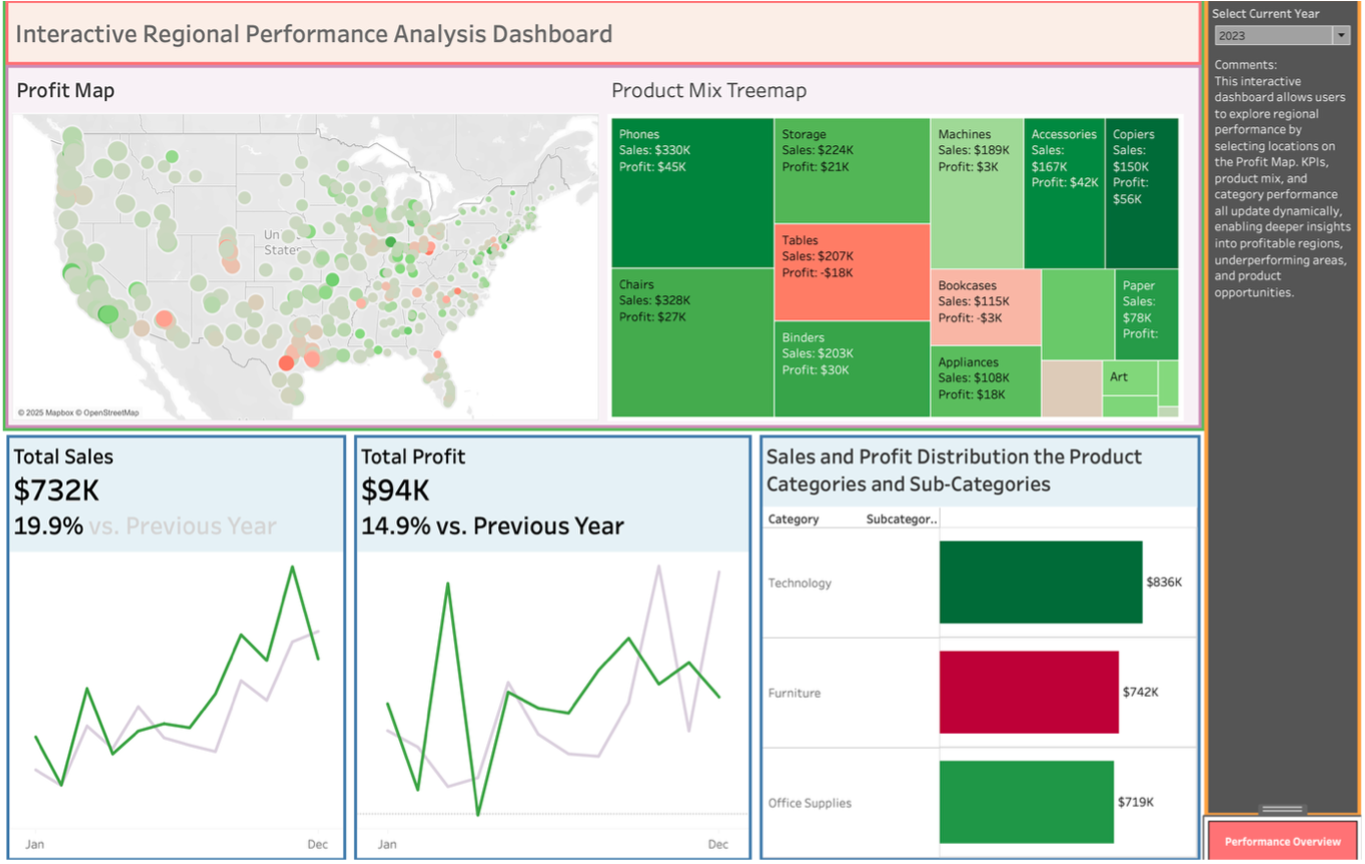

The page's visual inventory and layout, read from the dashboard file:
{"tool":"tableau","page":{"name":"Interactive Regional Performance Analysis","canvas":[1400,900],"ordinal":0},"visuals":[{"type":"parameter","param":"[Parameters].[Year Parameter]","box":[1235.6,12,152.4,52]},{"type":"text","box":[14,14,1211.6,60]},{"type":"text","box":[1235.6,64,152.4,263]},{"type":"worksheet","title":"Profit Map","mark":"Automatic","box":[14,80,606,364]},{"type":"worksheet","title":"Product Mix Treemap","mark":"Automatic","box":[620,80,606,364]},{"type":"worksheet","title":"Sales - KPI","mark":"Automatic","cols":["Order Date"],"box":[8,450,353.9,442]},{"type":"worksheet","title":"Profit - KPI","mark":"Automatic","cols":["Order Date"],"box":[361.9,450,412.7,442]},{"type":"worksheet","title":"Drill Down Chart","mark":"Automatic","rows":["Category","Calculation_2816368256293793796"],"cols":["Calculation_2816368255969181696"],"box":[774.6,450,456.9,442]},{"type":"dashboard-object","box":[1231.6,843,160.4,49]}]}

Visuals, with their boxes in screenshot pixels (x1, y1, x2, y2), scaled from the page's 1400x900 canvas onto the 1365x864 screenshot:
parameter: select_region(1205, 12, 1353, 61)
text: select_region(14, 13, 1195, 71)
text: select_region(1205, 61, 1353, 314)
"Profit Map" worksheet: select_region(14, 77, 604, 426)
"Product Mix Treemap" worksheet: select_region(604, 77, 1195, 426)
"Sales - KPI" worksheet: select_region(8, 432, 353, 856)
"Profit - KPI" worksheet: select_region(353, 432, 755, 856)
"Drill Down Chart" worksheet: select_region(755, 432, 1201, 856)
dashboard-object: select_region(1201, 809, 1357, 856)
